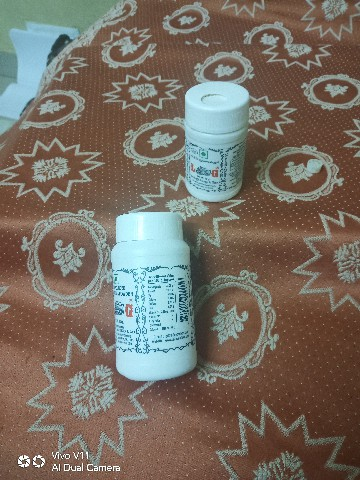lgasafoetidapowder large: (78, 203, 208, 391)
lgasafoetidapowder small: (178, 71, 257, 205)
